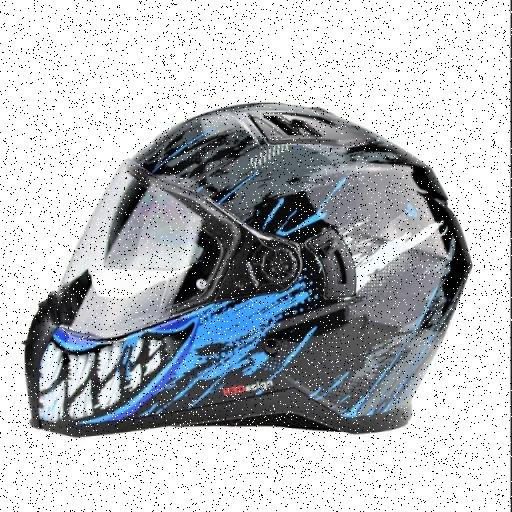Helmet: (35, 83, 466, 473)
